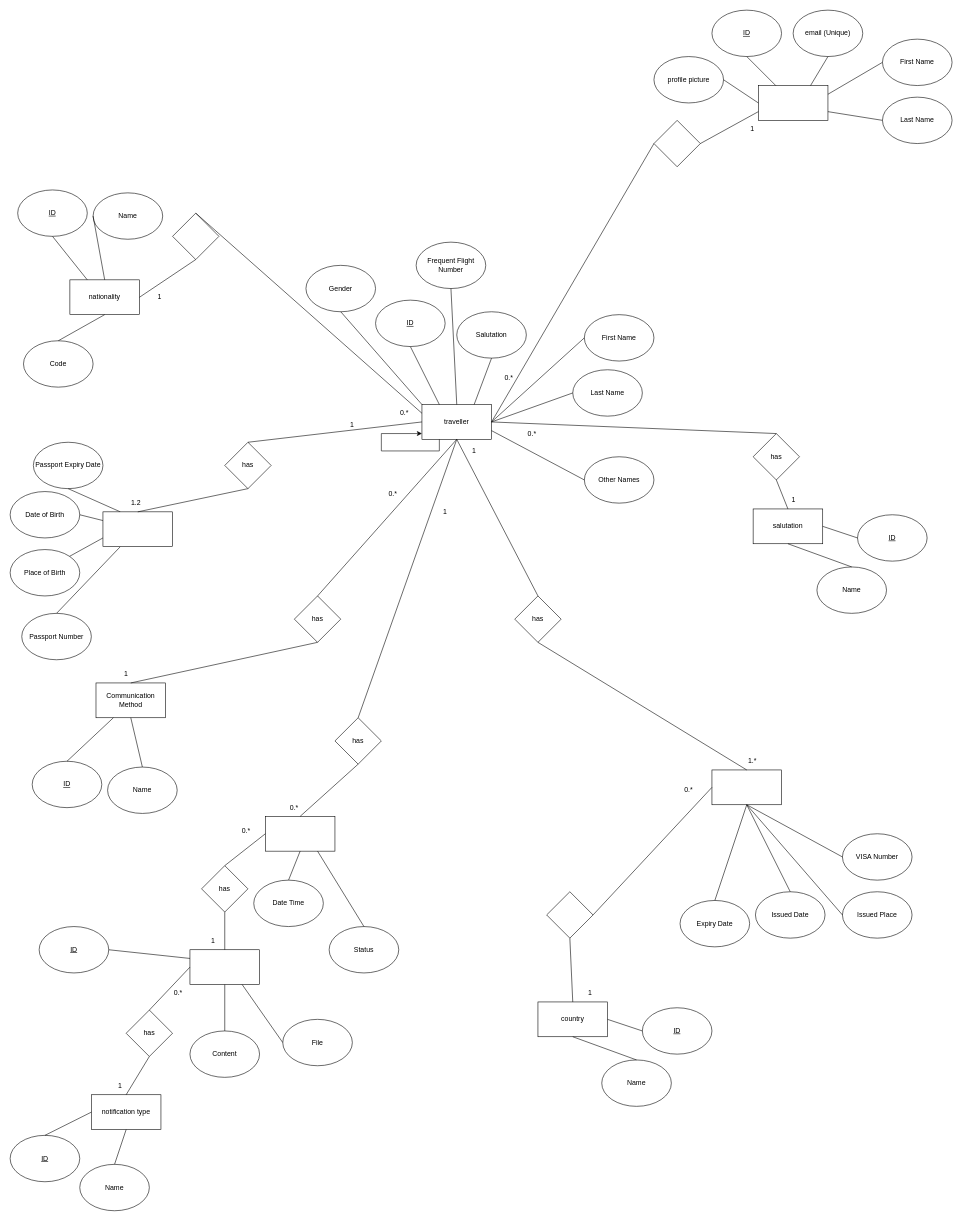
The diagram is 962 pixels wide and 1221 high, and some of its shapes have lost their labels. Each missing label, with the box of its shape:
belongs to: (172, 213, 219, 260)
for: (546, 891, 593, 938)
handled by: (653, 120, 700, 167)
Jobs: (265, 816, 335, 851)
notification: (189, 949, 260, 985)
passport information: (102, 511, 173, 547)
system_user: (758, 85, 828, 120)
VISA infromation: (711, 769, 782, 805)
